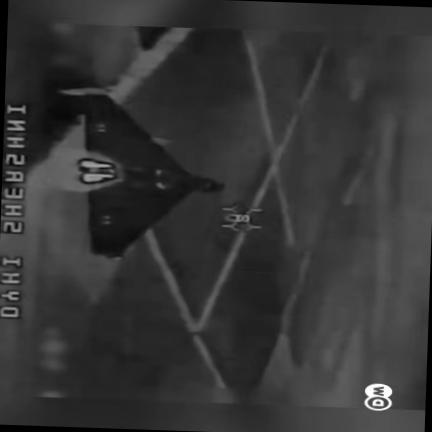Shahed: (54, 87, 223, 258)
